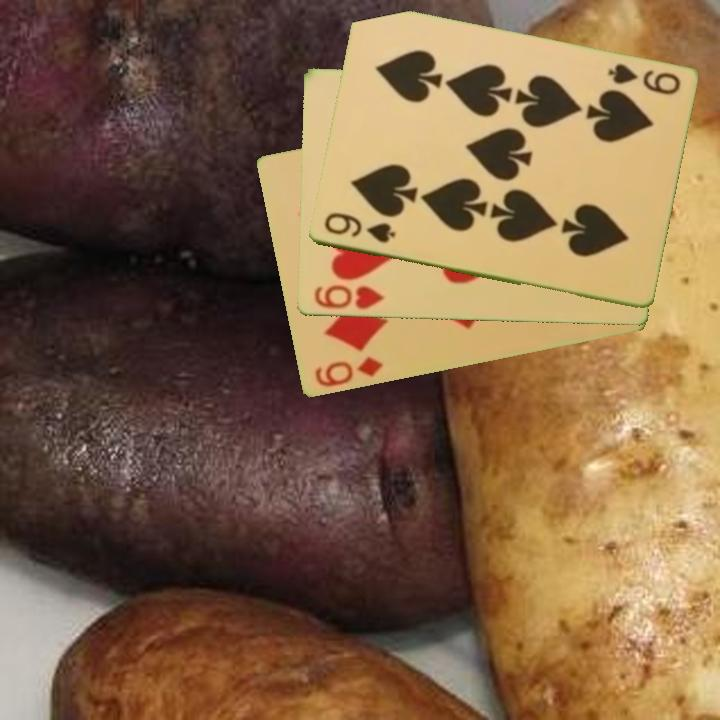6d: (311, 354, 386, 391)
6h: (310, 282, 387, 313)
9s: (604, 60, 683, 98), (320, 209, 398, 247)
